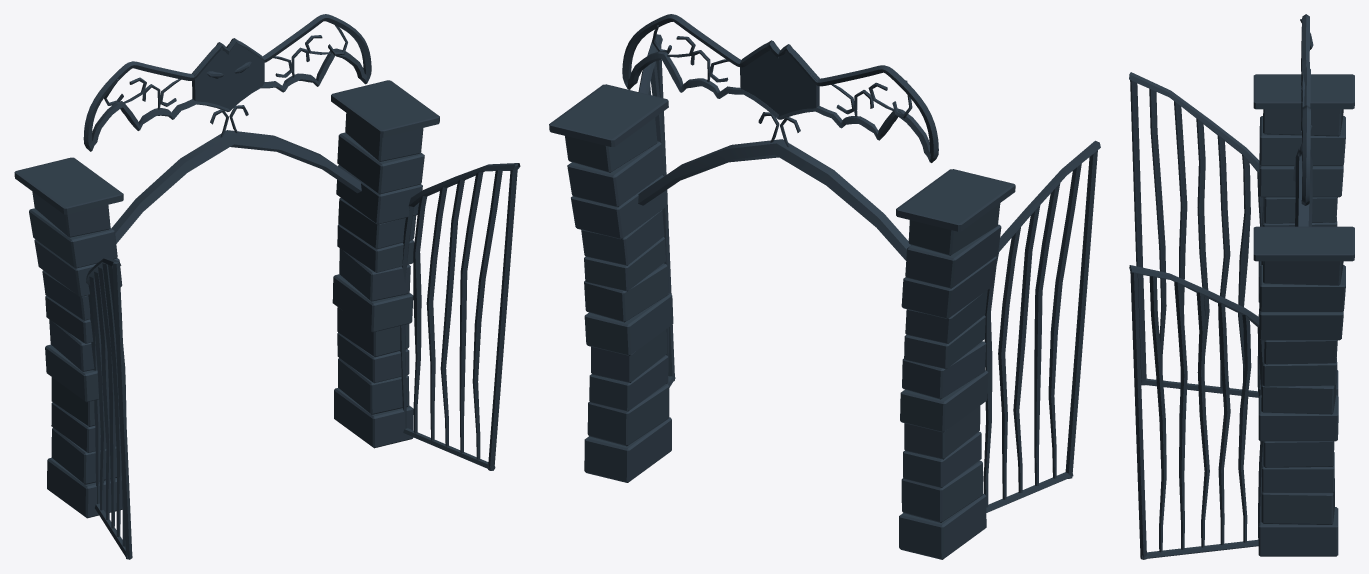
The model's file is CH_CE_Door_Hell.fbx.
The picture shows the model from 3 angles, left to right: view 1: azimuth 30°, elevation 25°; view 2: azimuth 150°, elevation 25°; view 3: azimuth 270°, elevation 25°; orthographic projection. The views are drawn at different scales.
Parts seen in each view (by area): view 1: Door, Door1, Door2; view 2: Door, Door2, Door1; view 3: Door, Door1, Door2.
Boxes of the visible parts, <box> form: Door: <box>14,14,439,518</box>; Door1: <box>400,163,520,470</box>; Door2: <box>86,257,132,559</box>; Door: <box>549,14,1015,559</box>; Door2: <box>983,140,1100,512</box>; Door1: <box>638,34,675,387</box>; Door: <box>1253,14,1354,556</box>; Door1: <box>1129,265,1264,559</box>; Door2: <box>1129,72,1263,397</box>.
Size of the model in its own units: 639 by 633 by 311.
